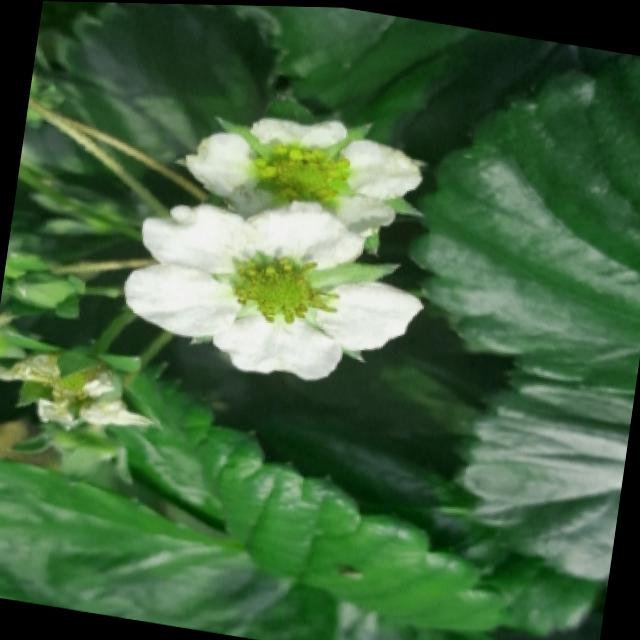Blossom Blight: (228, 246, 344, 333), (246, 136, 355, 206)
